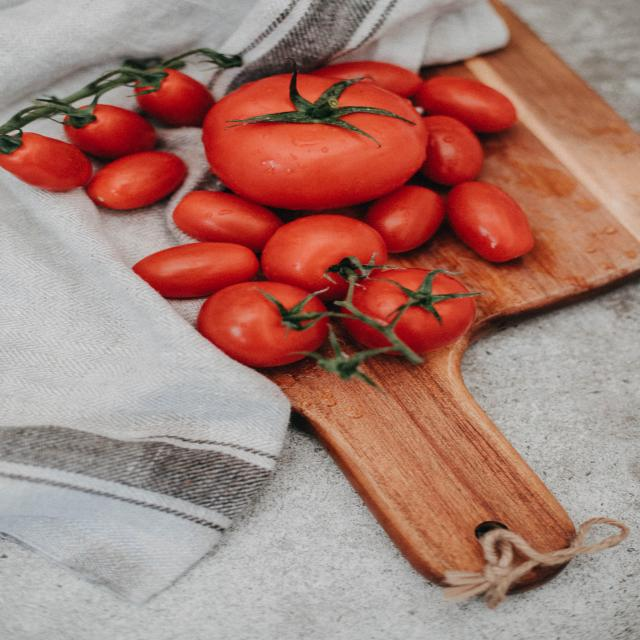Tomato: (194, 67, 441, 215), (335, 258, 501, 356)
